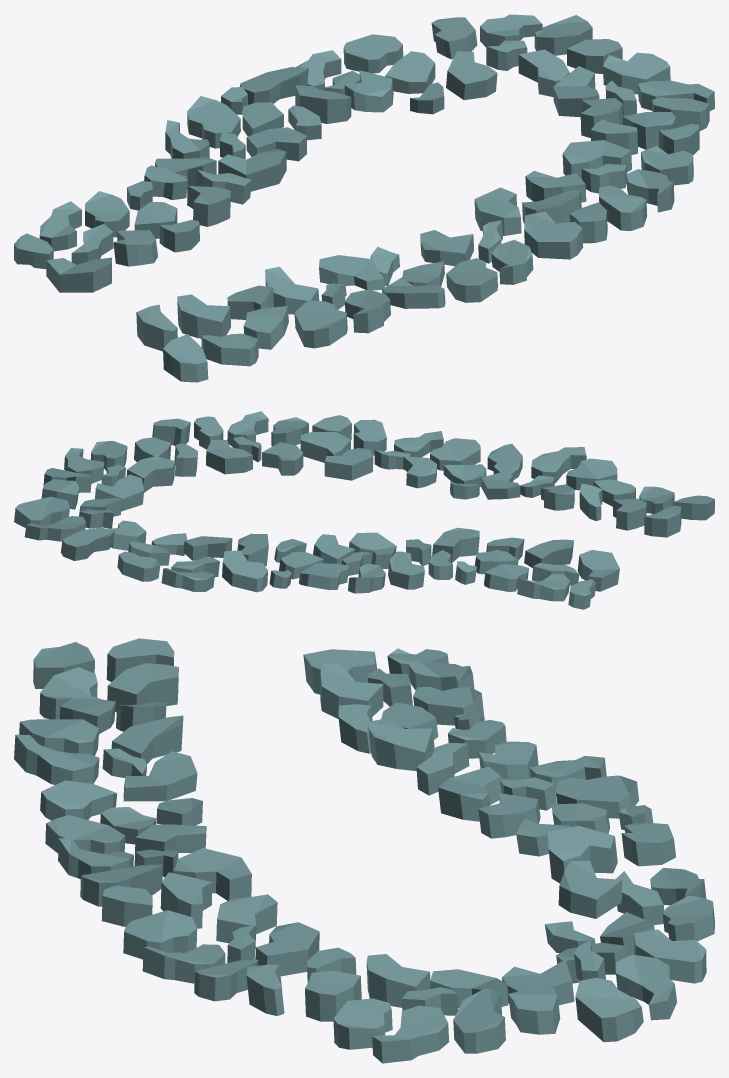
The model's file is fbTrack6.fbx.
The picture shows the model from 3 angles, top to bottom: view 1: azimuth 30°, elevation 25°; view 2: azimuth 150°, elevation 25°; view 3: azimuth 270°, elevation 25°; orthographic projection. The views are drawn at different scales.
Parts seen in each view (by area): view 1: polySurface70; view 2: polySurface70; view 3: polySurface70.
Part boxes in pixels (<box>): polySurface70: <box>14,14,714,382</box>; polySurface70: <box>14,411,714,609</box>; polySurface70: <box>14,638,714,1063</box>.
Bounding box in the file's own units: 4.65 × 0.2869 × 3.45.
